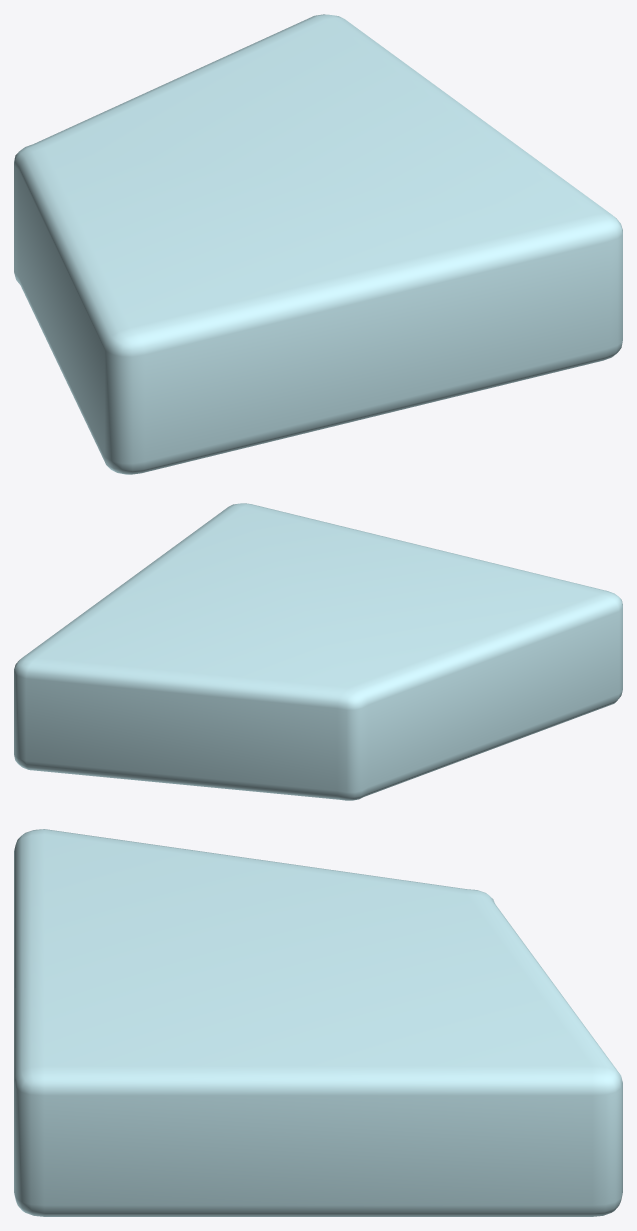
Rendered from Box_Floor_05.fbx.
3 views of the same model, one above another, from view 1: azimuth 30°, elevation 25°; view 2: azimuth 150°, elevation 25°; view 3: azimuth 270°, elevation 25° (orthographic). The views are drawn at different scales.
Visible parts, largest first — view 1: Box_Floor_05; view 2: Box_Floor_05; view 3: Box_Floor_05.
Part boxes in pixels (bbox=[...]): Box_Floor_05: bbox=[14, 14, 622, 474]; Box_Floor_05: bbox=[14, 503, 622, 800]; Box_Floor_05: bbox=[14, 829, 622, 1216].
Bounding box in the file's own units: 20 × 5.29 × 20.
